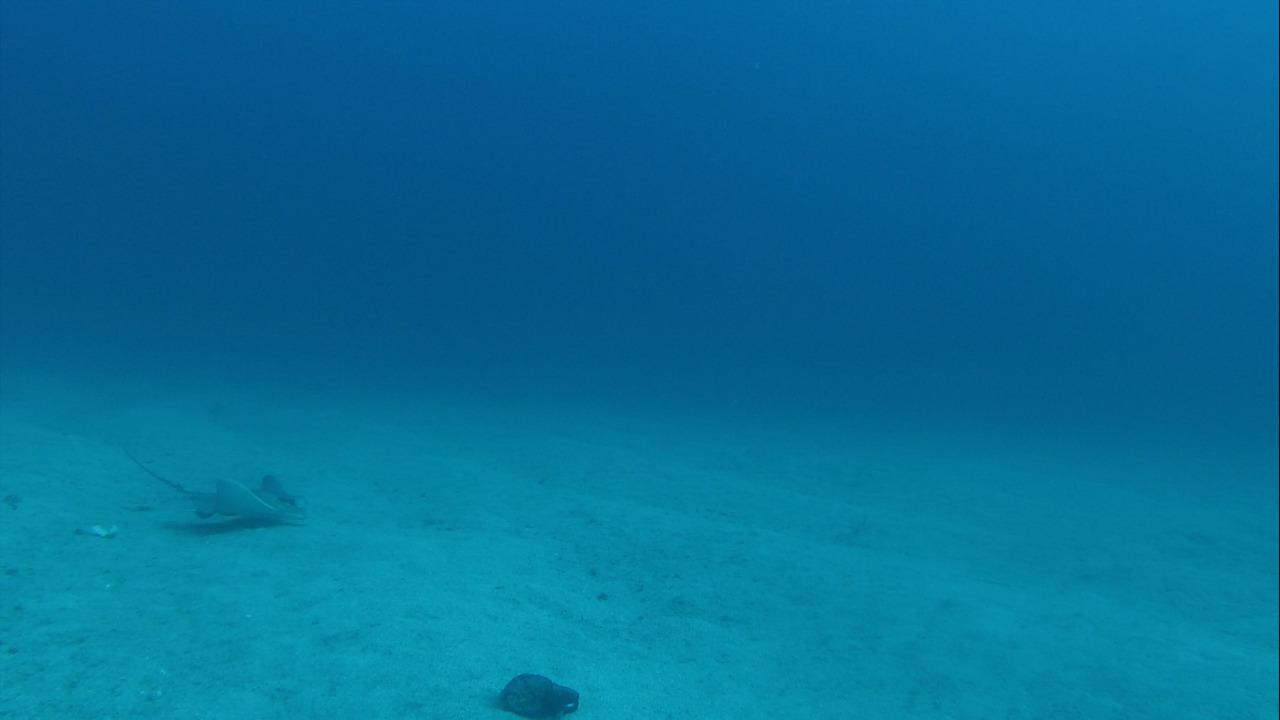myliobatis: (89, 428, 316, 536)
